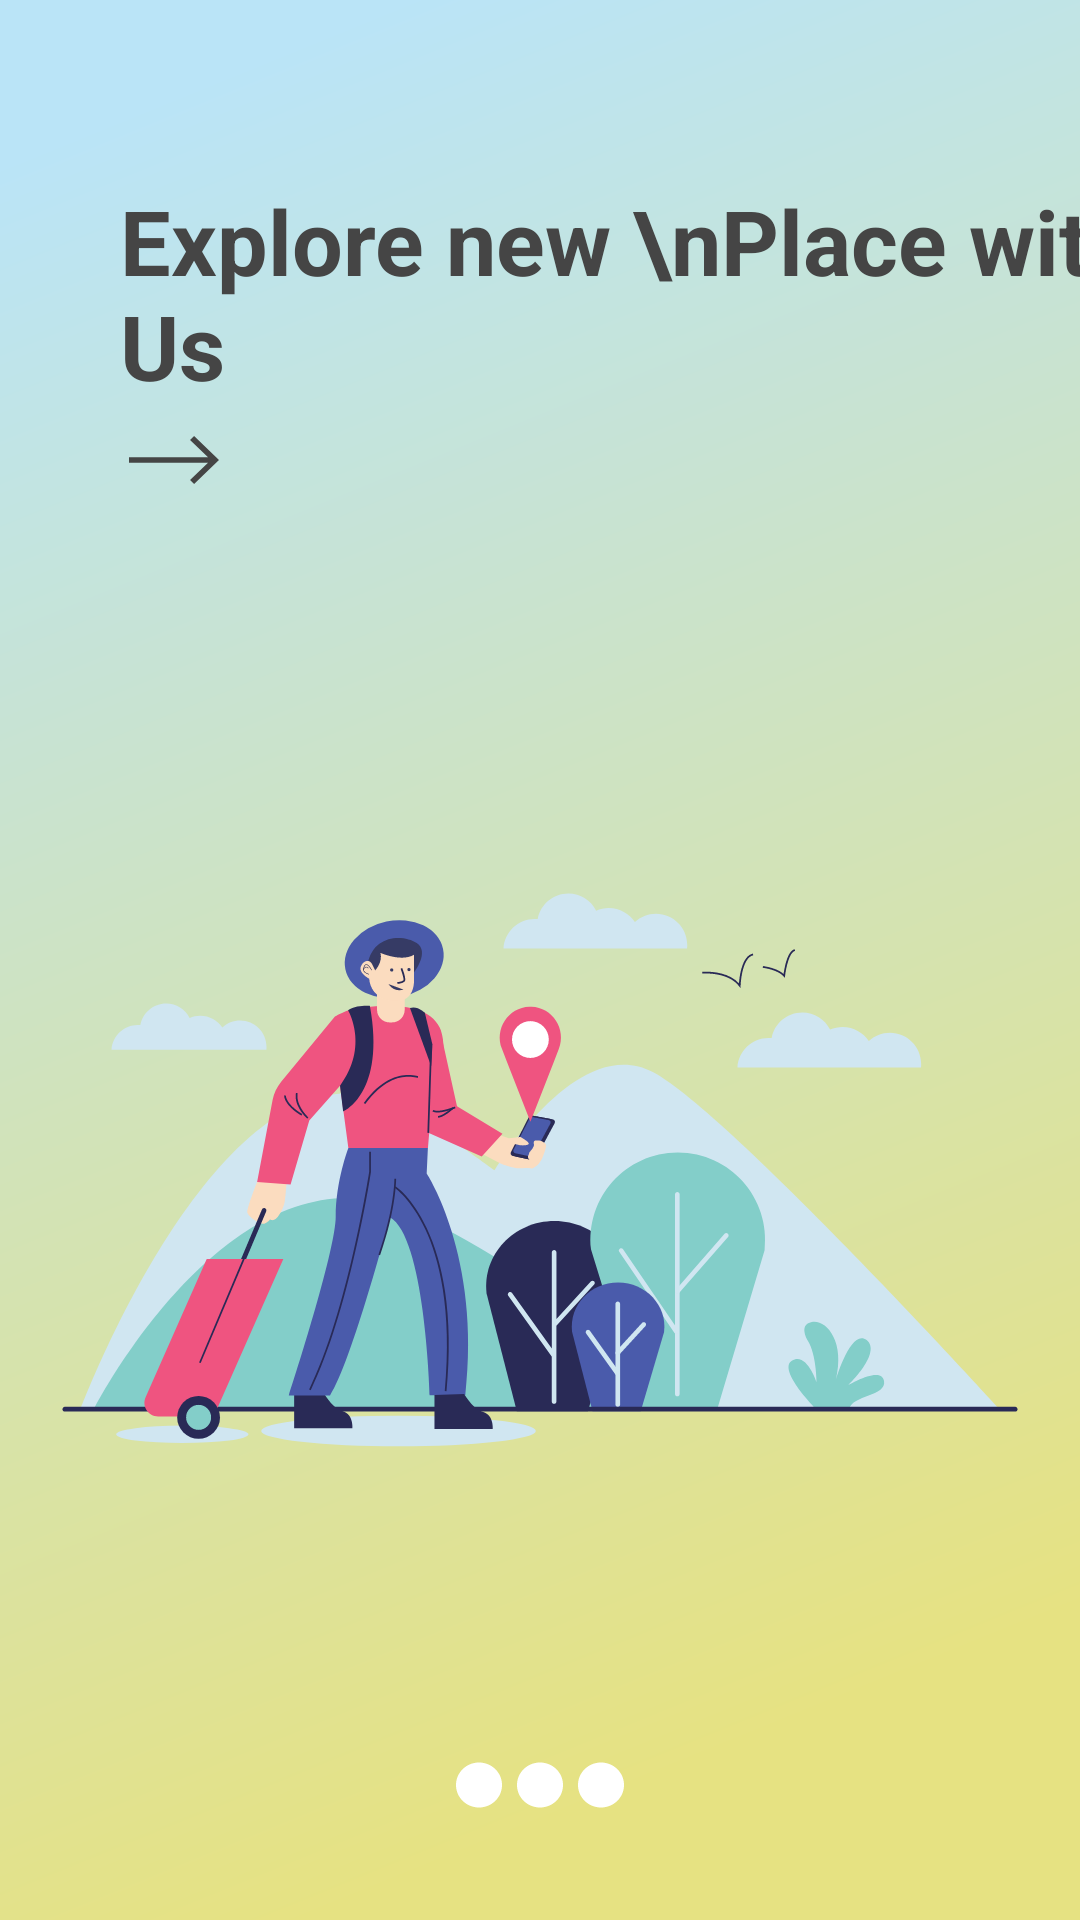

Locate icon controls on the screen. Image size 1080px x 1920px, boxes as (x1, y1, x2, y2).
arrow: (129, 436, 219, 484)
